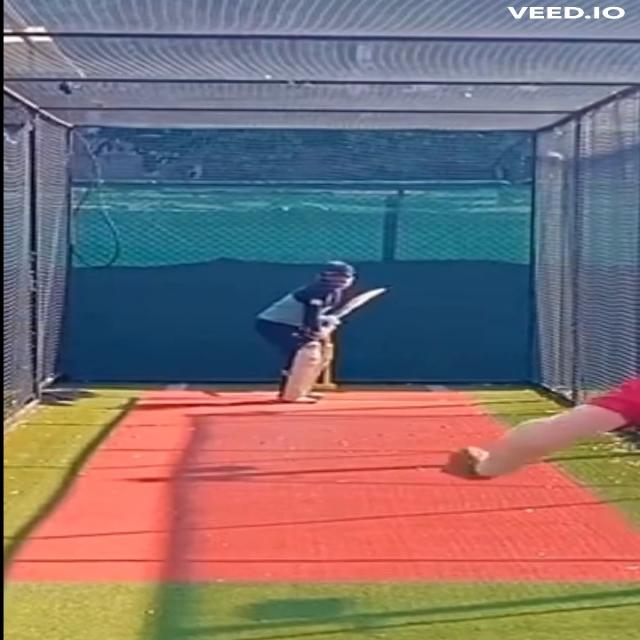ball: (538, 150, 572, 172)
